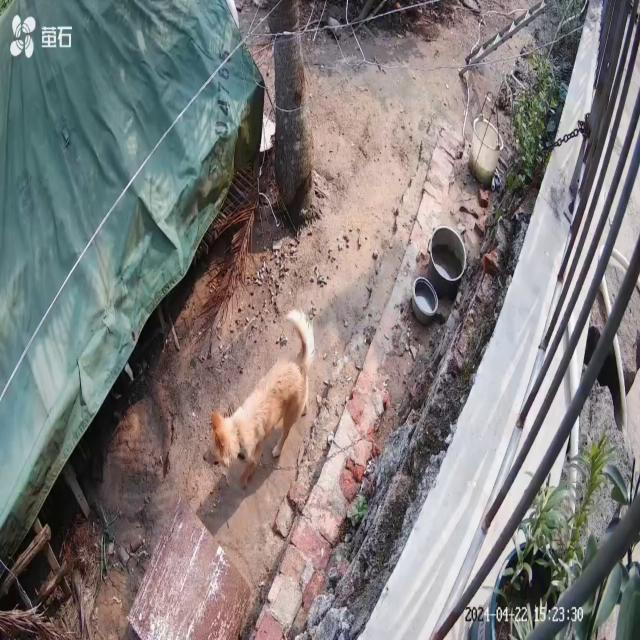dog: (205, 309, 316, 489)
